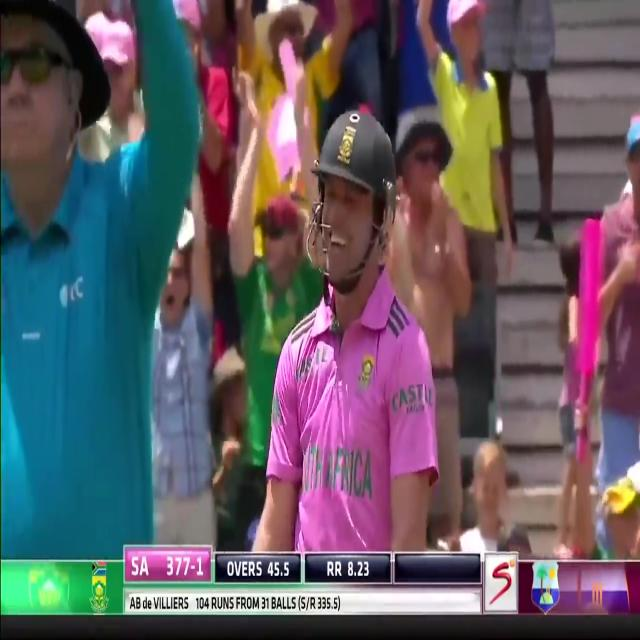Ball: (252, 106, 450, 552)
